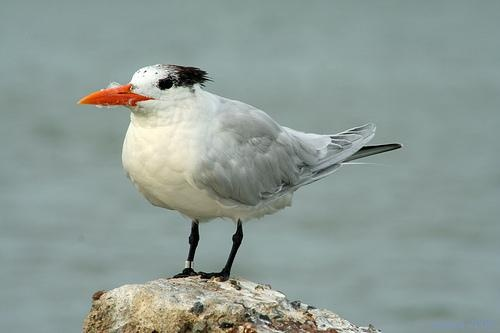bird: (75, 62, 403, 280)
